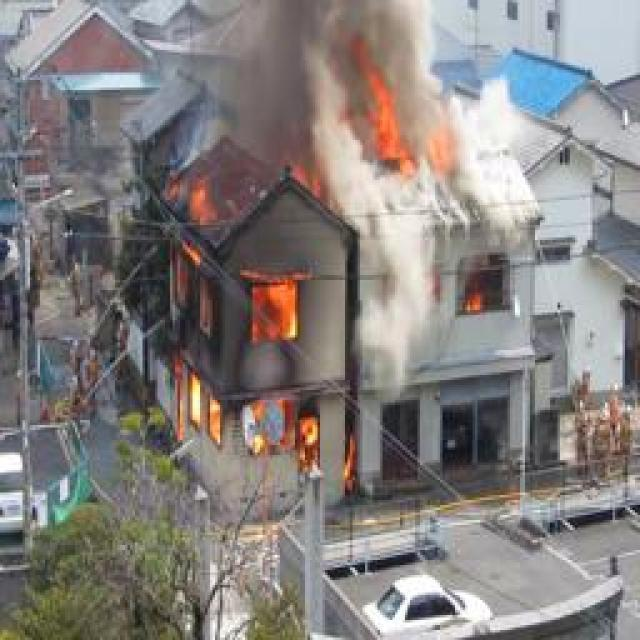Fire: (174, 176, 330, 495), (361, 75, 459, 172), (464, 290, 489, 312)
